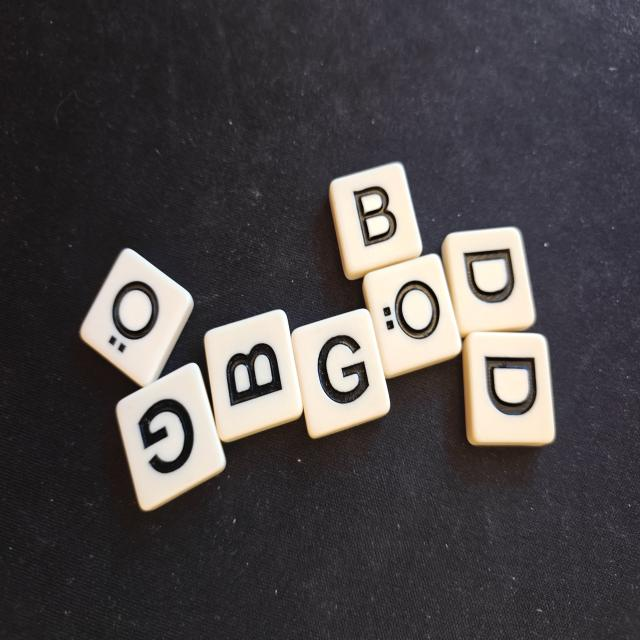b: (204, 310, 303, 442), (329, 162, 422, 280)
d: (462, 332, 555, 446), (441, 227, 535, 338)
g: (116, 363, 226, 511), (292, 309, 390, 438)
o_dot: (80, 249, 193, 386), (363, 254, 462, 378)
